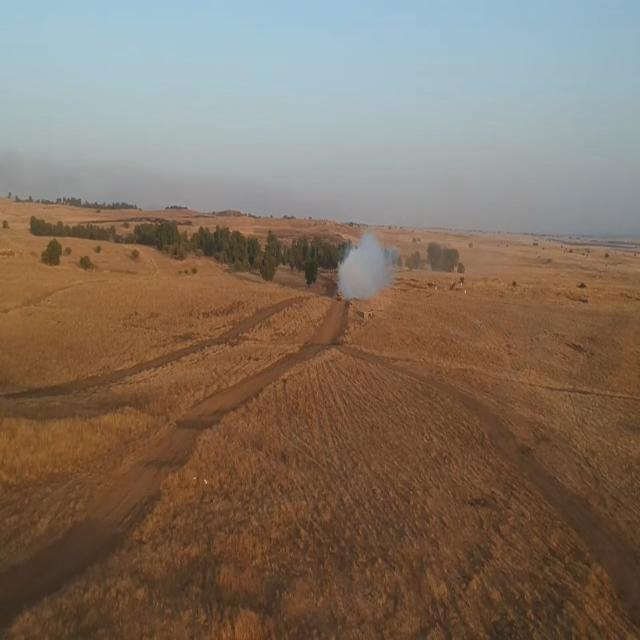tank: (333, 290, 348, 310)
